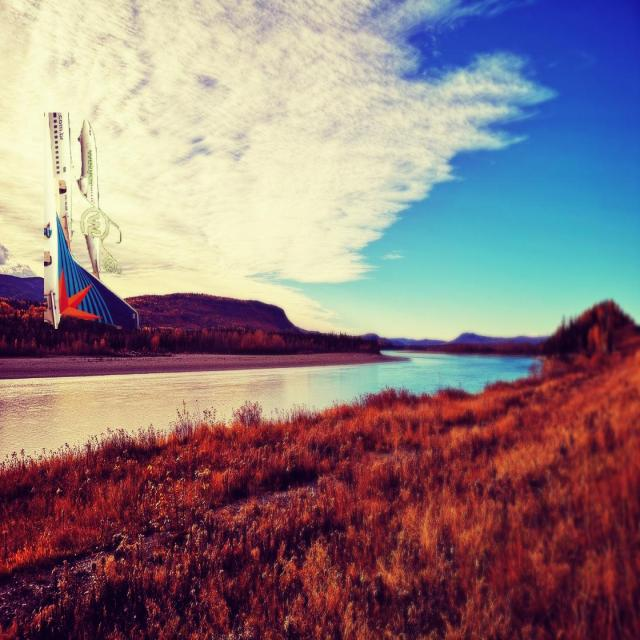airplane: (42, 110, 140, 332)
